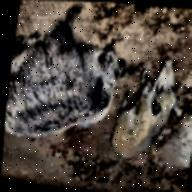boar: (2, 6, 144, 163)
